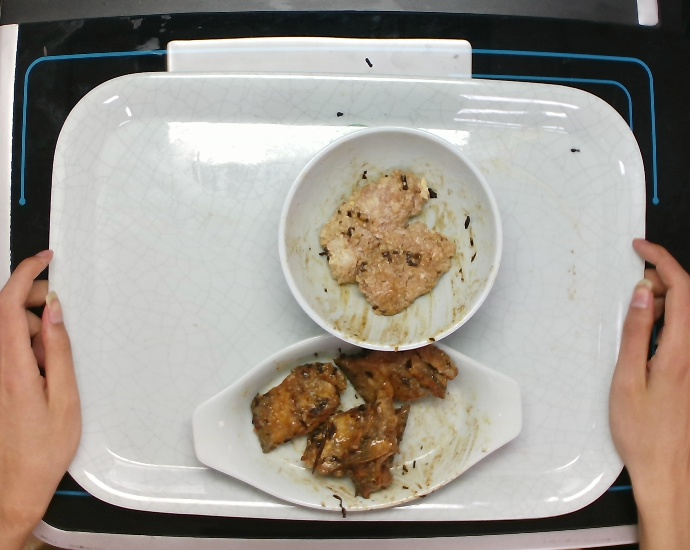JYsf-Fan_Wan: (274, 120, 510, 355)
JYsf-Yu_Pan: (188, 326, 530, 516)
